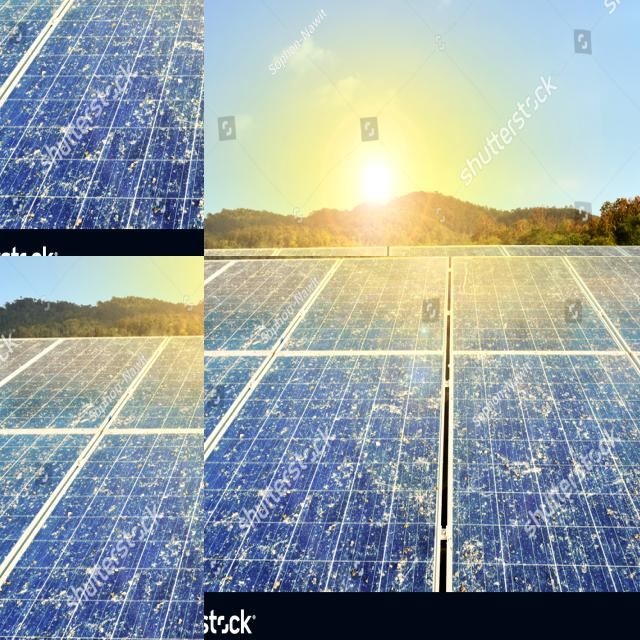bird: (516, 434, 572, 510), (605, 443, 640, 550), (456, 536, 498, 591), (237, 306, 280, 354), (379, 542, 421, 591), (410, 455, 442, 517), (204, 370, 232, 420), (374, 400, 406, 438), (278, 492, 302, 542), (44, 260, 72, 290), (321, 506, 346, 538), (0, 261, 26, 289), (205, 208, 222, 238), (204, 489, 217, 524), (204, 491, 212, 538), (4, 256, 33, 267), (0, 256, 29, 267), (279, 232, 292, 256), (55, 256, 69, 273), (204, 205, 213, 228), (204, 182, 212, 201), (204, 184, 209, 213), (204, 241, 213, 256), (38, 0, 52, 7), (33, 0, 45, 7), (0, 0, 6, 12), (204, 185, 213, 193), (15, 0, 29, 5), (204, 191, 209, 202), (204, 242, 210, 251), (0, 0, 7, 7), (3, 0, 12, 5), (7, 0, 17, 4), (0, 0, 8, 5), (66, 0, 75, 4), (69, 0, 78, 4), (97, 0, 101, 9), (62, 0, 69, 5), (204, 249, 209, 256), (53, 0, 60, 4), (53, 0, 58, 5), (24, 0, 32, 3), (0, 0, 6, 4), (15, 0, 22, 3), (0, 0, 5, 4), (0, 0, 4, 5), (0, 0, 3, 5)
